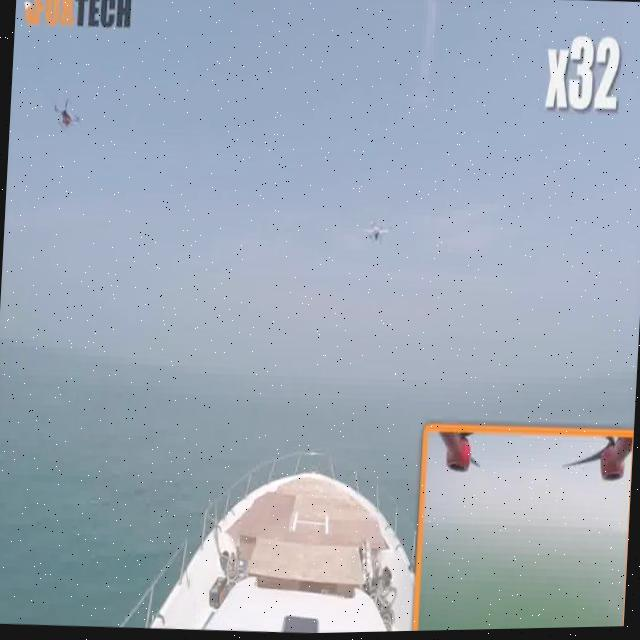drone: (44, 94, 86, 143), (360, 217, 398, 251)
